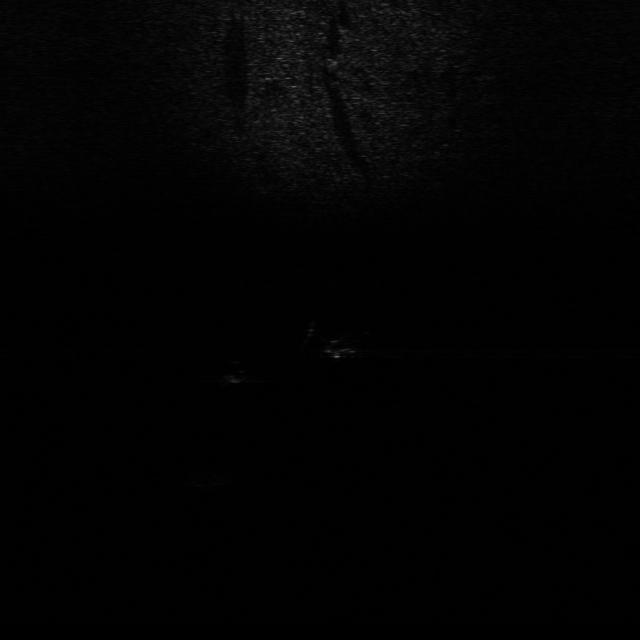ball: (216, 358, 252, 387)
circle cage: (187, 462, 239, 490)
human body: (301, 314, 373, 362)
